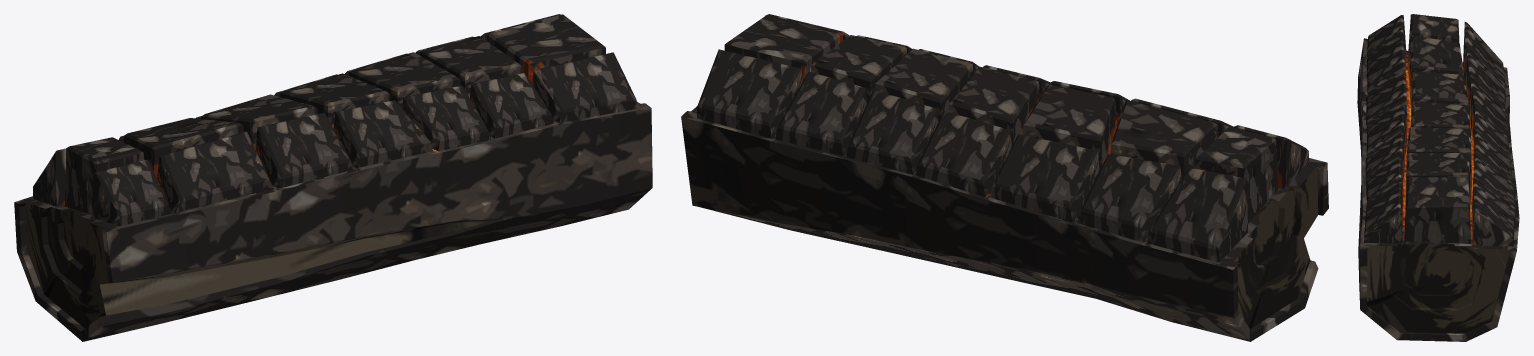
The model's file is burned_log.glb.
3 views of the same model, side by side, from view 1: azimuth 30°, elevation 25°; view 2: azimuth 150°, elevation 25°; view 3: azimuth 270°, elevation 25° (orthographic). The views are drawn at different scales.
Parts seen in each view (by area): view 1: Object_2; view 2: Object_2; view 3: Object_2.
Boxes of the visible parts, box(x1,y1,x2,y2) form: Object_2: box(14, 14, 652, 341); Object_2: box(681, 14, 1328, 341); Object_2: box(1357, 14, 1519, 341).
Size of the model in its own units: 88.99 by 27.62 by 29.71.
1 material, 1 textured.
